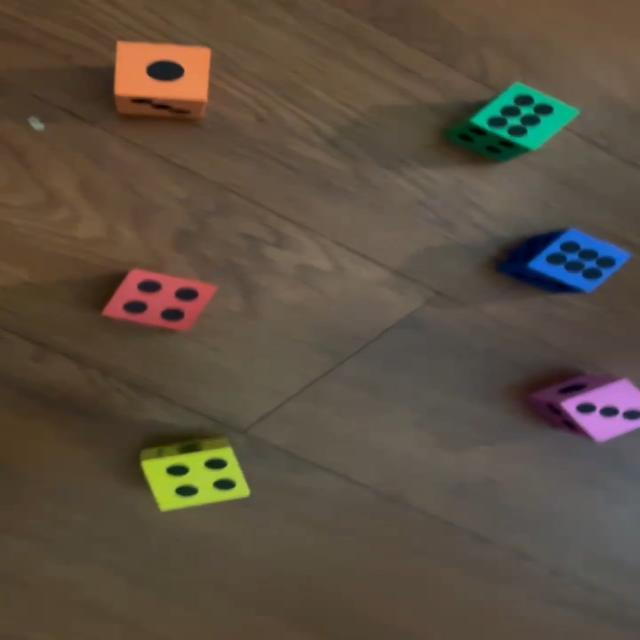blue_block: (494, 229, 634, 291)
red_block: (99, 269, 218, 331)
